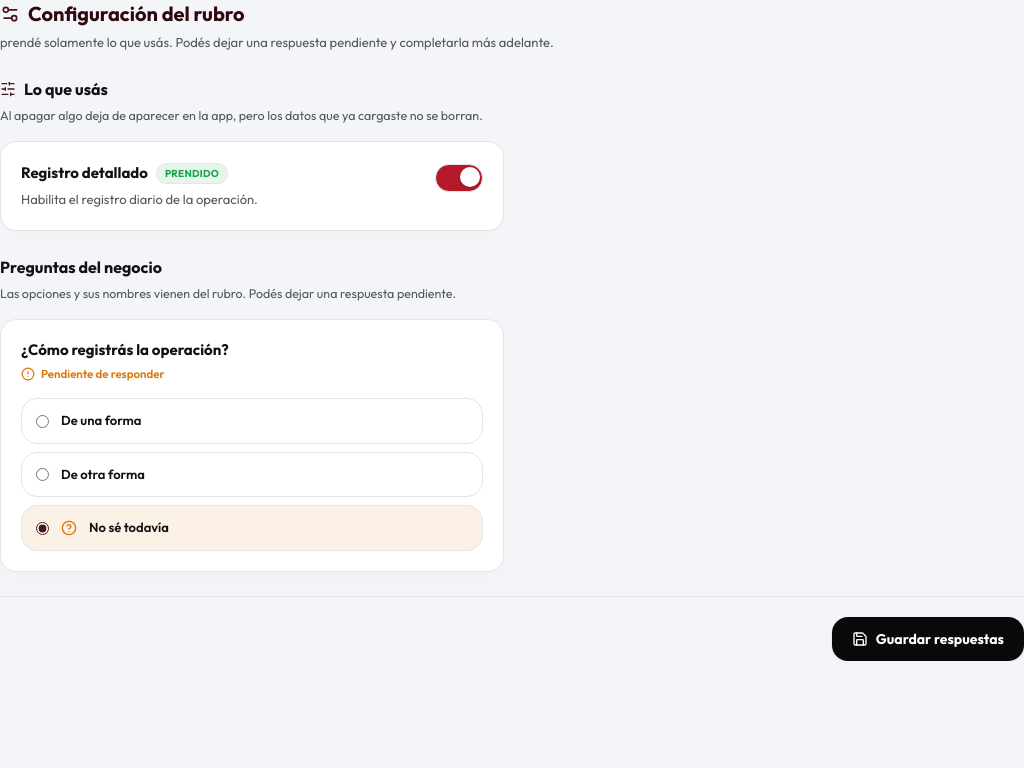
configuración del rubro › muestra literalmente el motivo del backend y no apaga el módulo
Click the switch named "Apagar Registro detallado" at (459, 178), box [435,164,483,192]
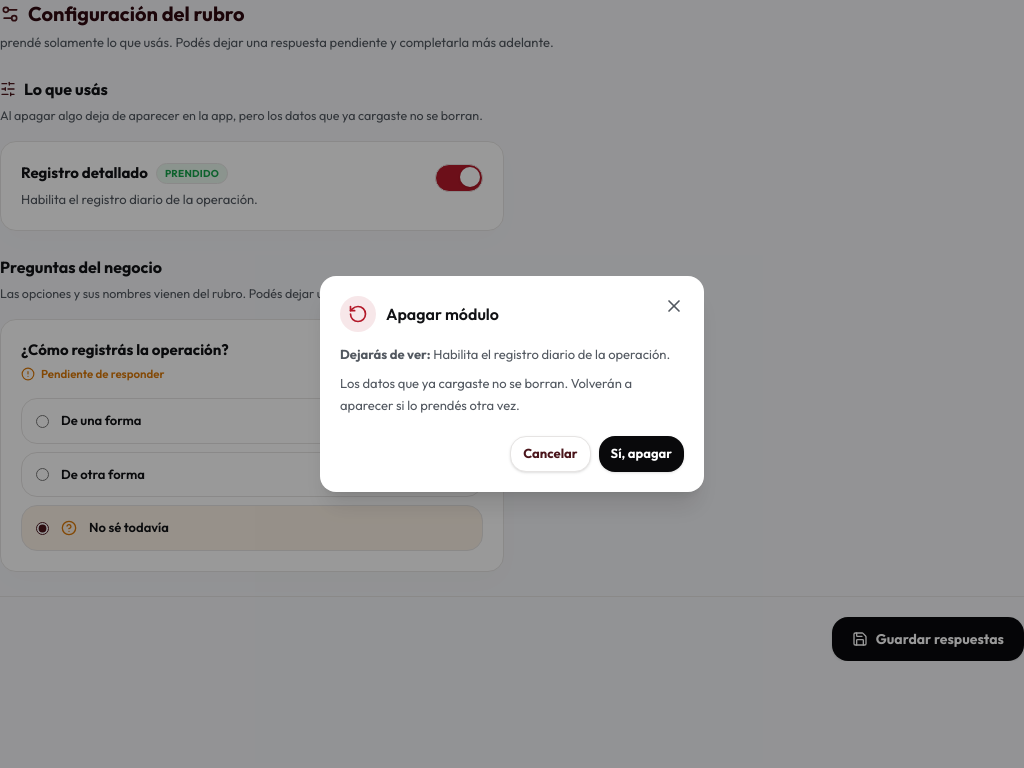
Click the button "Sí, apagar" at (641, 454), box [599,436,684,472]
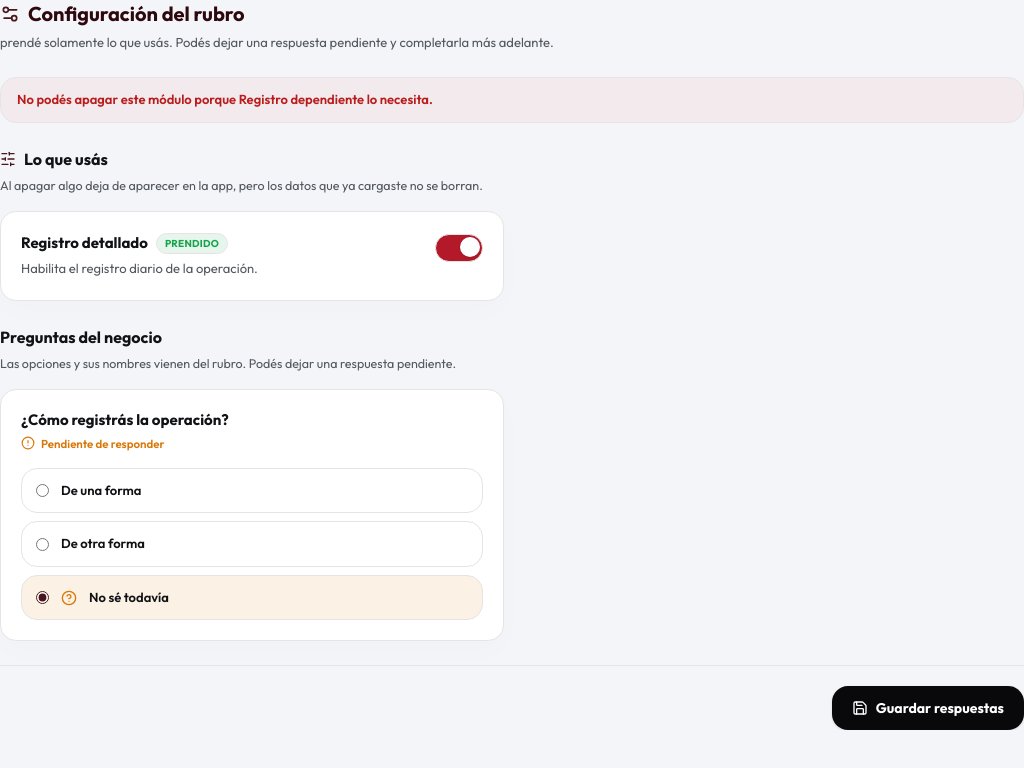
Check: the message reads "No podés apagar este módulo porque Registro dependiente lo necesita.", box [17,91,433,107]
